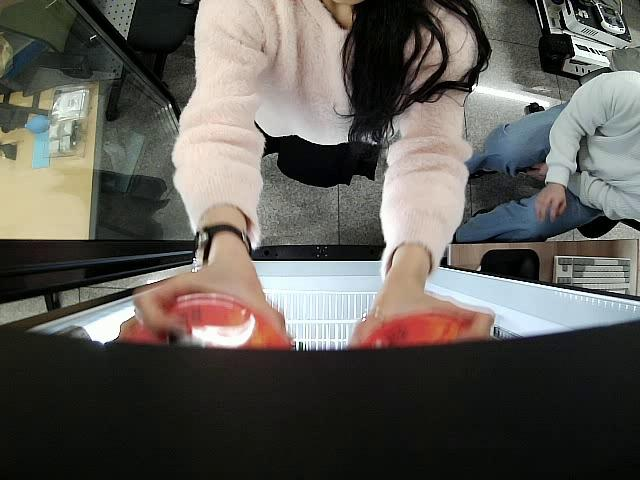00_hand: (116, 246, 296, 344), (351, 292, 494, 343), (536, 183, 567, 222)
01_shinRamen_L: (124, 295, 292, 348), (355, 309, 489, 344)
